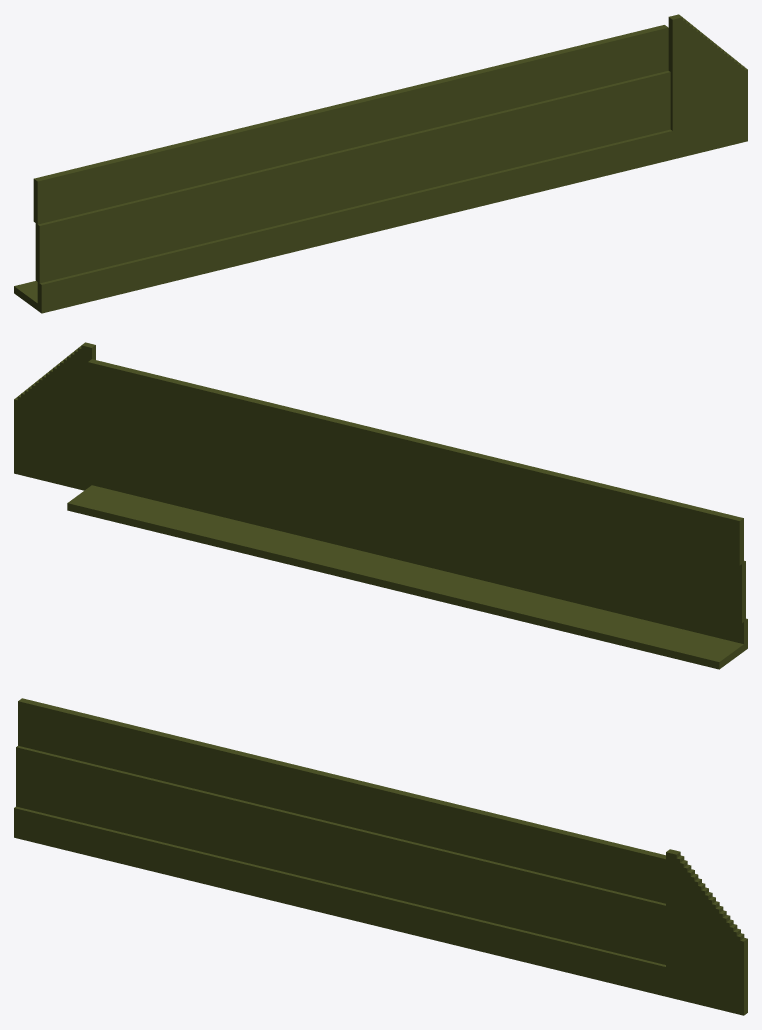
File: apc_hull_side.glb
3 renders of one model, top to bottom at view 1: azimuth 30°, elevation 25°; view 2: azimuth 150°, elevation 25°; view 3: azimuth 330°, elevation 25°, orthographic. The views are drawn at different scales.
Parts seen in each view (by area): view 1: body:compound; view 2: body:compound; view 3: body:compound.
Part boxes in pixels (box(x1,y1,x2,y2)): body:compound: box(14, 14, 747, 313); body:compound: box(14, 342, 747, 669); body:compound: box(14, 698, 747, 1015).
Size of the model in its own units: 6.44 by 1.22 by 0.4375.
